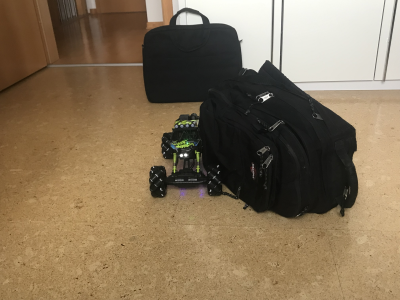remote control car: (146, 111, 223, 199)
